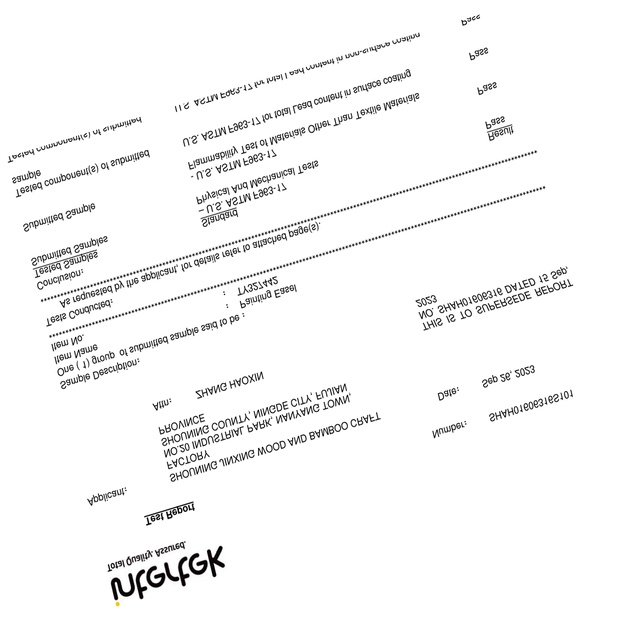intertek: (108, 540, 225, 609)
